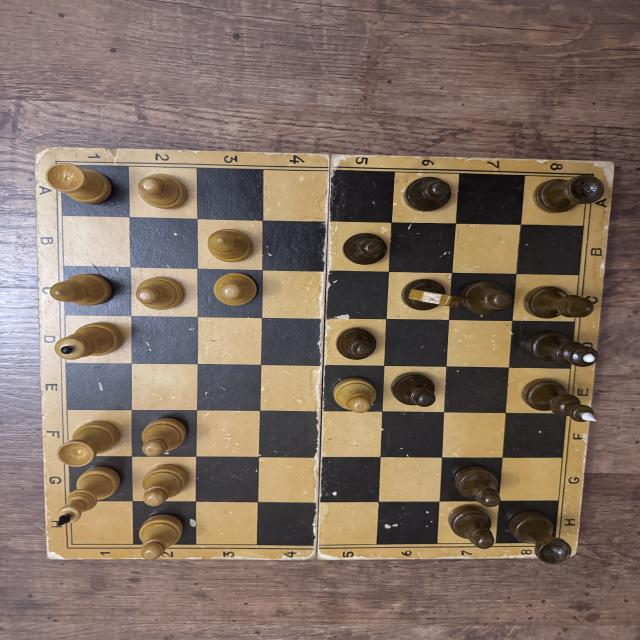black-bishop: (524, 286, 596, 320)
black-king: (520, 377, 598, 425)
black-knight: (401, 277, 462, 315)
black-pawn: (445, 504, 499, 549), (453, 466, 505, 508), (460, 279, 512, 317), (402, 176, 453, 213), (391, 371, 437, 407), (342, 233, 388, 266), (337, 328, 378, 361)
black-queen: (522, 328, 600, 368)
black-rook: (506, 508, 570, 564), (531, 174, 607, 214)
white-bishop: (48, 274, 115, 306), (207, 227, 253, 263)
white-king: (56, 467, 121, 526)
white-pawn: (139, 465, 190, 509), (139, 514, 184, 560), (140, 418, 188, 457), (211, 272, 260, 308), (139, 174, 187, 210), (135, 276, 185, 310), (332, 378, 378, 413)
white-queen: (55, 322, 125, 361)
white-rook: (58, 420, 121, 467), (46, 163, 115, 205)
